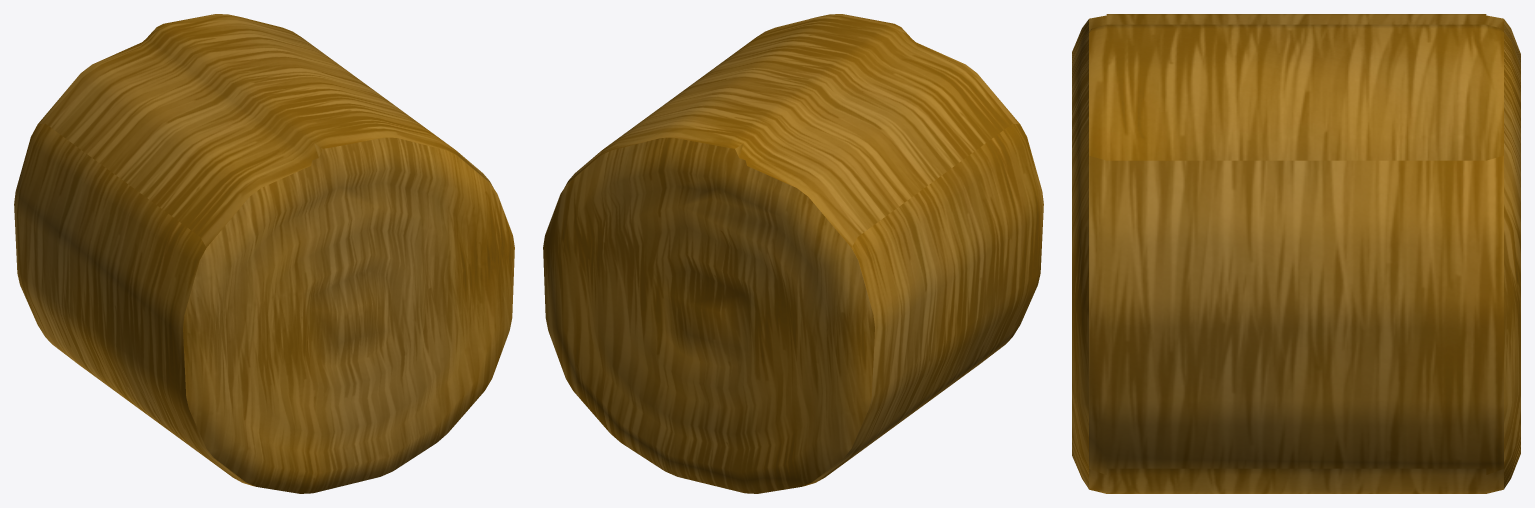
Rendered from haystack round.obj.
3 views of the same model, side by side, from view 1: azimuth 30°, elevation 25°; view 2: azimuth 150°, elevation 25°; view 3: azimuth 270°, elevation 25° (orthographic). The views are drawn at different scales.
Parts seen in each view (by area): view 1: Plane.004; view 2: Plane.004; view 3: Plane.004.
Part boxes in pixels (left/top/right/bottom): Plane.004: left=14, top=14, right=514, bottom=493; Plane.004: left=543, top=14, right=1043, bottom=493; Plane.004: left=1072, top=14, right=1520, bottom=493.
Bounding box in the file's own units: 3.09 × 3.04 × 2.89.
Materials: 1 (1 with a texture image).
